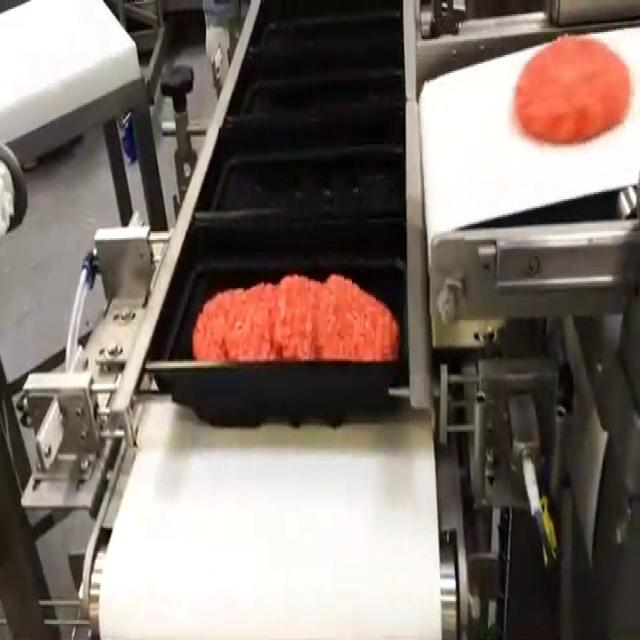4-hamburguer: (193, 274, 399, 361)
hamburguer: (514, 36, 630, 144)
